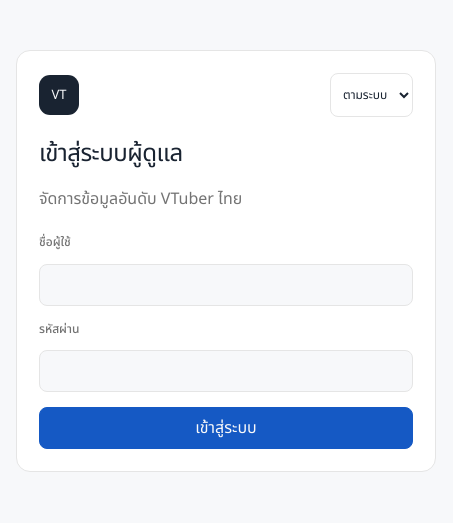
Test case: keeps existing short-password login available and displays failures
Expected: the heading "เข้าสู่ระบบผู้ดูแล" is shown, [39,136,183,172]
Type "admin" into the field labelled "ชื่อผู้ใช้". click: (226, 284)
box: [39,264,413,306]
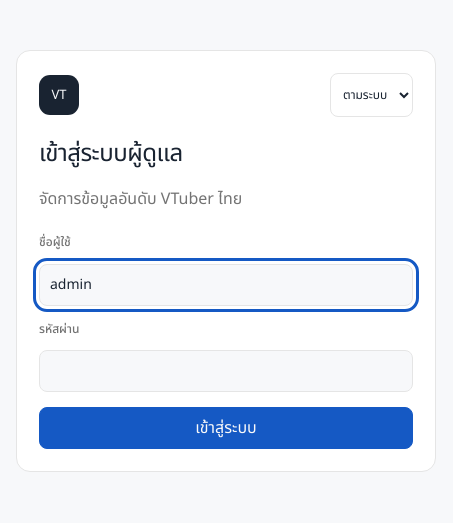
Type "abcd" into the password field labelled "รหัสผ่าน". click: (226, 371)
box: [39,350,413,392]
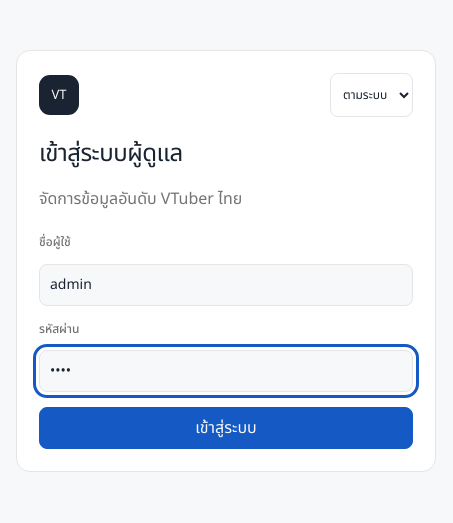
Click the button "เข้าสู่ระบบ". click: (226, 428)
box: [39,407,413,449]
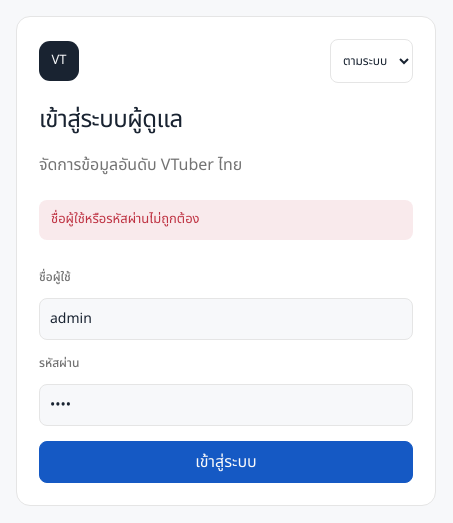
Result: the message reads "ชื่อผู้ใช้หรือรหัสผ่านไม่ถูกต้อง" at [51,209,200,229]
